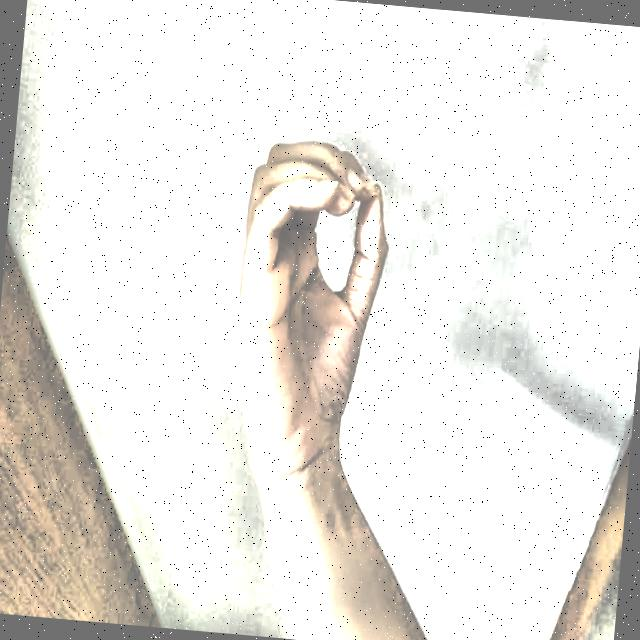O: (203, 104, 406, 493)
